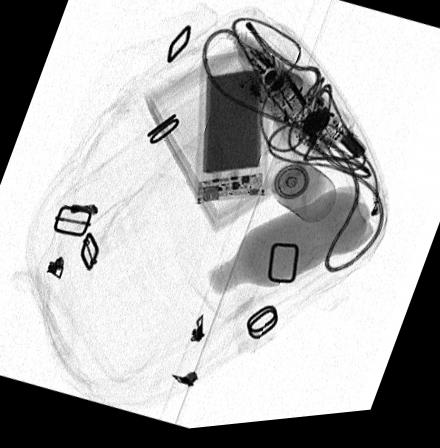Lighter: (198, 135, 220, 204)
Powerbank: (194, 54, 269, 207)
Sprayer: (264, 163, 336, 230)
